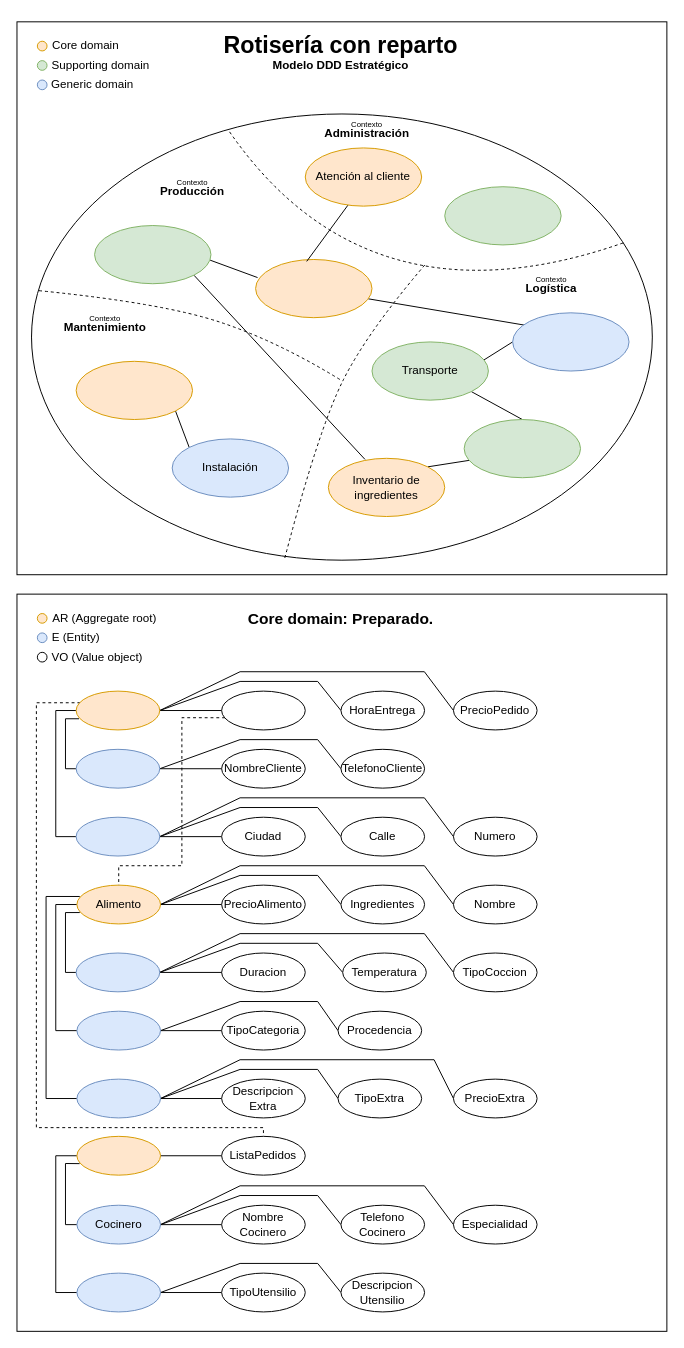
The diagram is 684 pixels wide and 1348 high, and some of its shapes have lost their labels. Each missing label, with the centre of its shape:
Carta de alimentos: the point at 152,254
Categoria: the point at 118,1030
Cliente: the point at 117,768
Coccion: the point at 117,972
Cocina: the point at 118,1155
Destino: the point at 117,836
Empaquetado: the point at 570,341
Extras: the point at 118,1098
Facturación: the point at 502,215
Limpieza: the point at 134,390
ListaAlimentos: the point at 263,710
Pedido: the point at 117,710
Preparado: the point at 313,288
Reposición de ingredientes: the point at 522,448
Utensilios: the point at 118,1292
